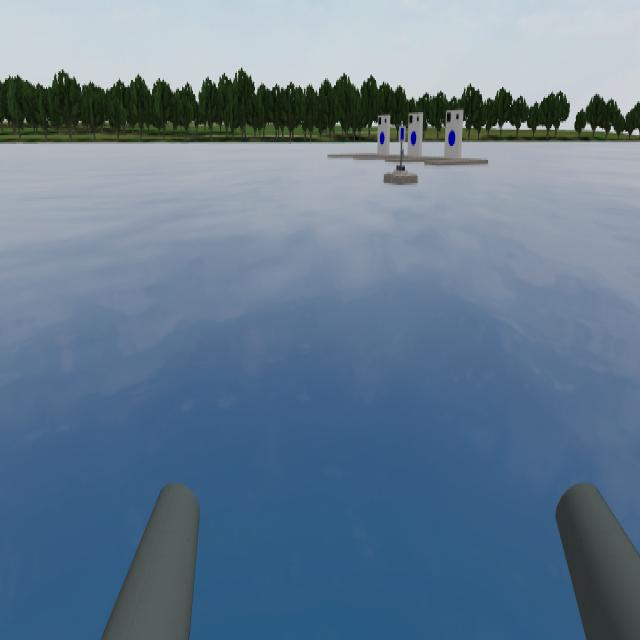blue_pole: (395, 118, 407, 160)
